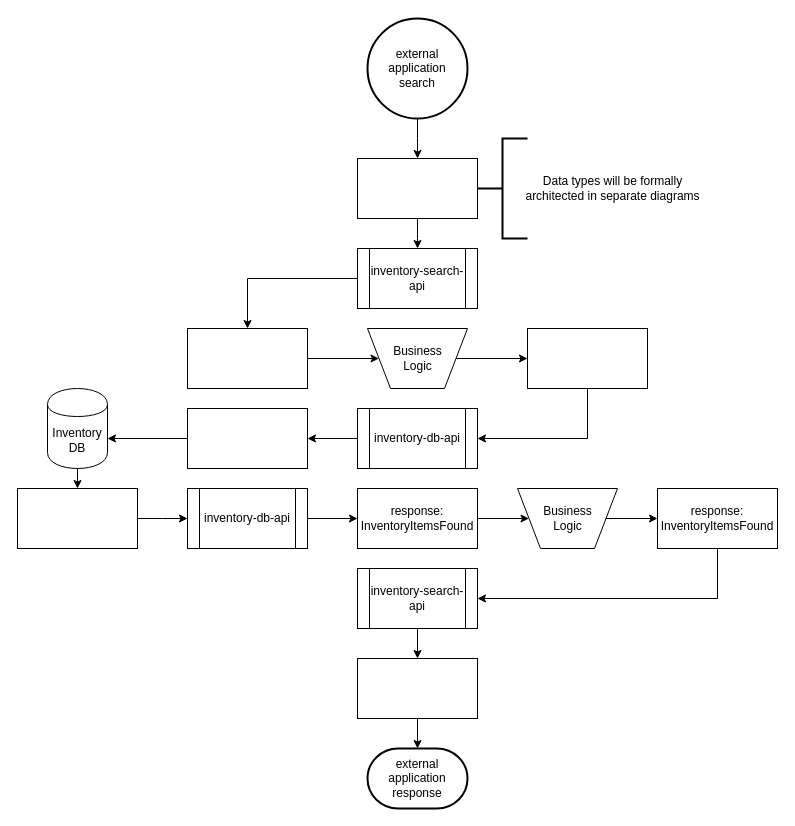
Image size: 795x826. Some labels were removed from this diagram. Here are the shapes that lost their labels. From the top down, the centre of each, then its label:
At pixel 417 188: "query: QueryData".
At pixel 247 358: "data: HummingbirdData".
At pixel 587 358: "request: InventoryItems".
At pixel 247 438: "query: InventoryDbQuery".
At pixel 77 518: "data: QueriedData".
At pixel 417 688: "response: ResponseData".
